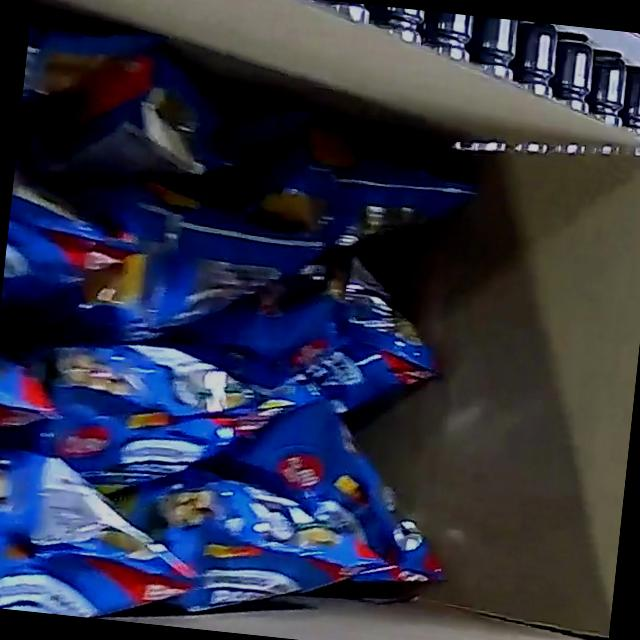paprika: (0, 11, 506, 640)
